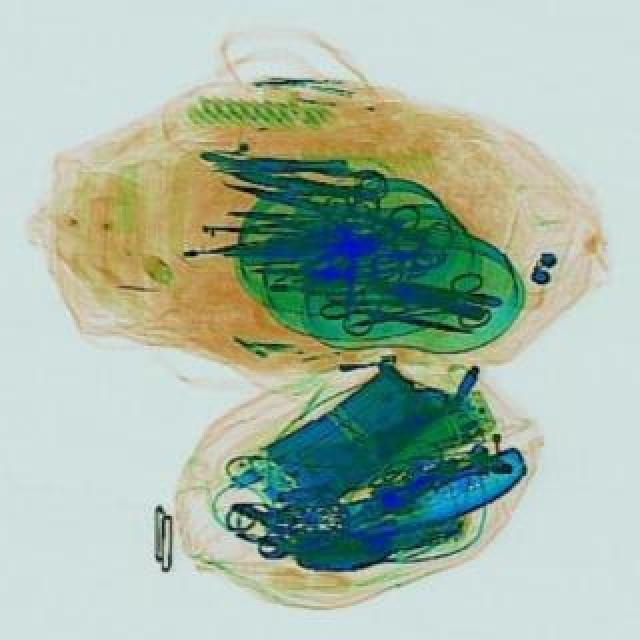pliers: (340, 272, 492, 356), (316, 302, 470, 350)
